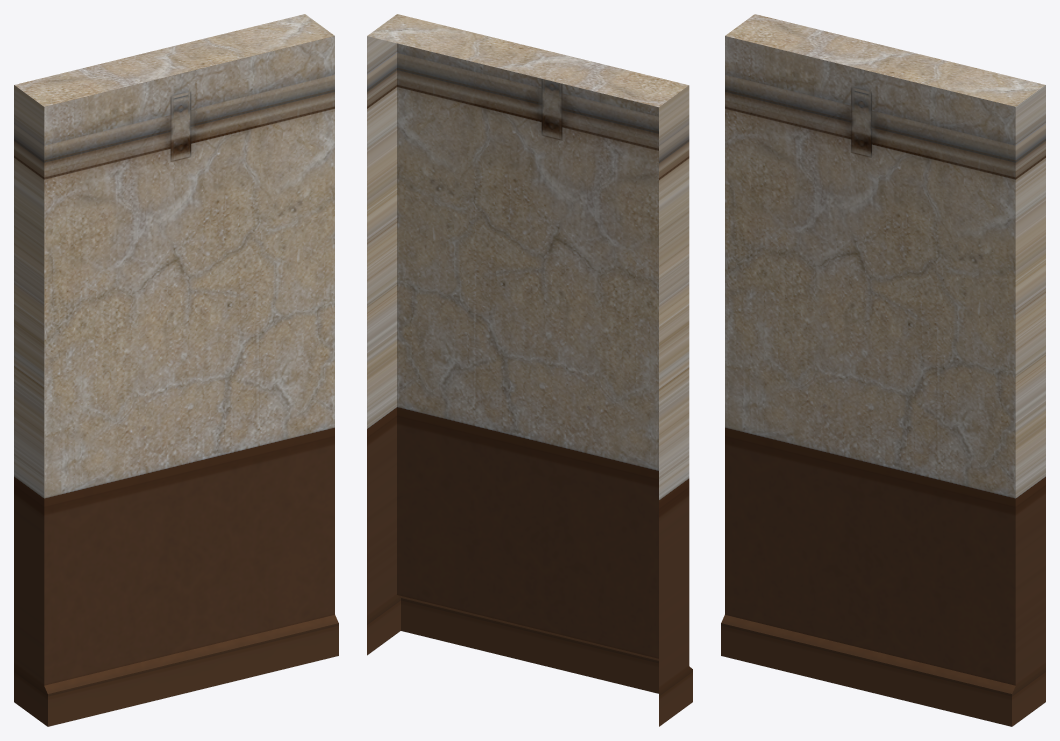
File: Wall_Serv_Short.fbx
3 renders of one model, left to right at view 1: azimuth 30°, elevation 25°; view 2: azimuth 150°, elevation 25°; view 3: azimuth 330°, elevation 25°, orthographic.
Parts seen in each view (by area): view 1: Wall_servants_Short; view 2: Wall_servants_Short; view 3: Wall_servants_Short.
Boxes of the visible parts, box(x1,y1,x2,y2) form: Wall_servants_Short: box(14, 14, 338, 726); Wall_servants_Short: box(367, 14, 692, 726); Wall_servants_Short: box(721, 14, 1045, 726).
Size of the model in its own units: 183 by 371 by 36.72.
